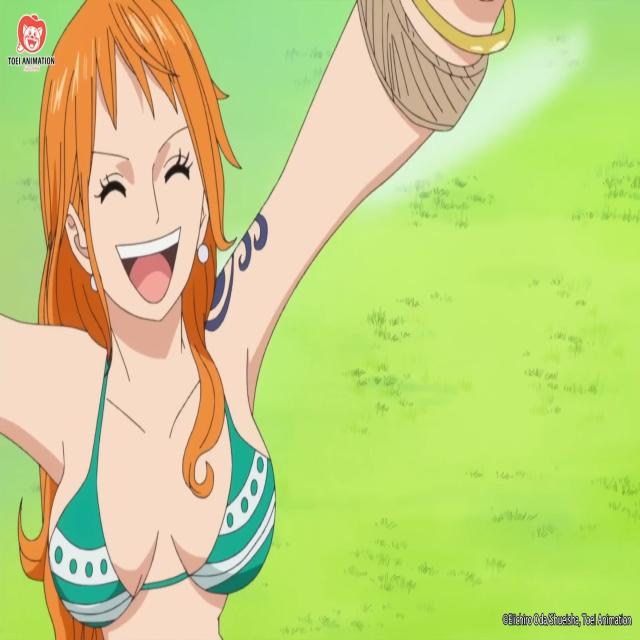Nami: (2, 1, 513, 637)
